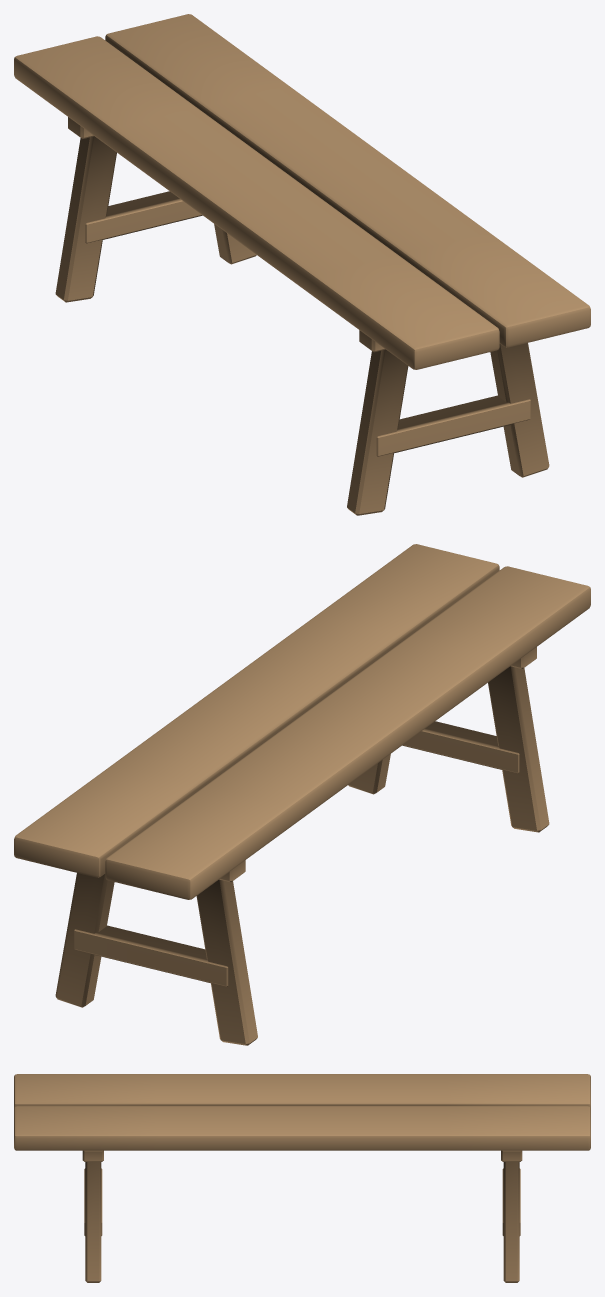
Rendered from bench_plain.glb.
The picture shows the model from 3 angles, top to bottom: view 1: azimuth 30°, elevation 25°; view 2: azimuth 150°, elevation 25°; view 3: azimuth 270°, elevation 25°; orthographic projection. The views are drawn at different scales.
Parts seen in each view (by area): view 1: PART; view 2: PART; view 3: PART.
Part boxes in pixels (<box>): PART: <box>14,14,590,515</box>; PART: <box>14,544,590,1045</box>; PART: <box>14,1074,590,1282</box>.
Bounding box in the file's own units: 0.4469 × 0.4495 × 1.6.
